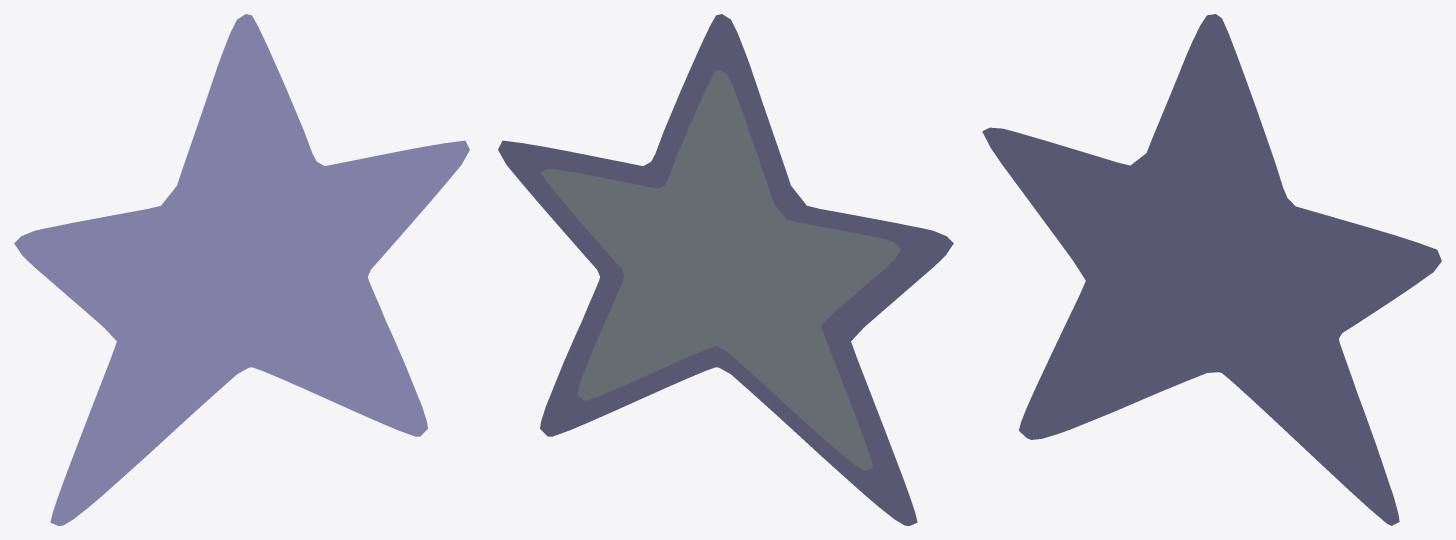
File: star.fbx
3 views of the same model, side by side, from view 1: azimuth 30°, elevation 25°; view 2: azimuth 150°, elevation 25°; view 3: azimuth 330°, elevation 25° (orthographic).
Visible parts, largest first — view 1: star_out; view 2: star_in, star_out; view 3: star_out.
Boxes of the visible parts, left/top/right/bottom form: star_out: left=14, top=14, right=469, bottom=525; star_in: left=540, top=70, right=901, bottom=470; star_out: left=498, top=14, right=953, bottom=525; star_out: left=982, top=14, right=1441, bottom=525.
Size of the model in its own units: 93.95 by 92.01 by 0.7642.
